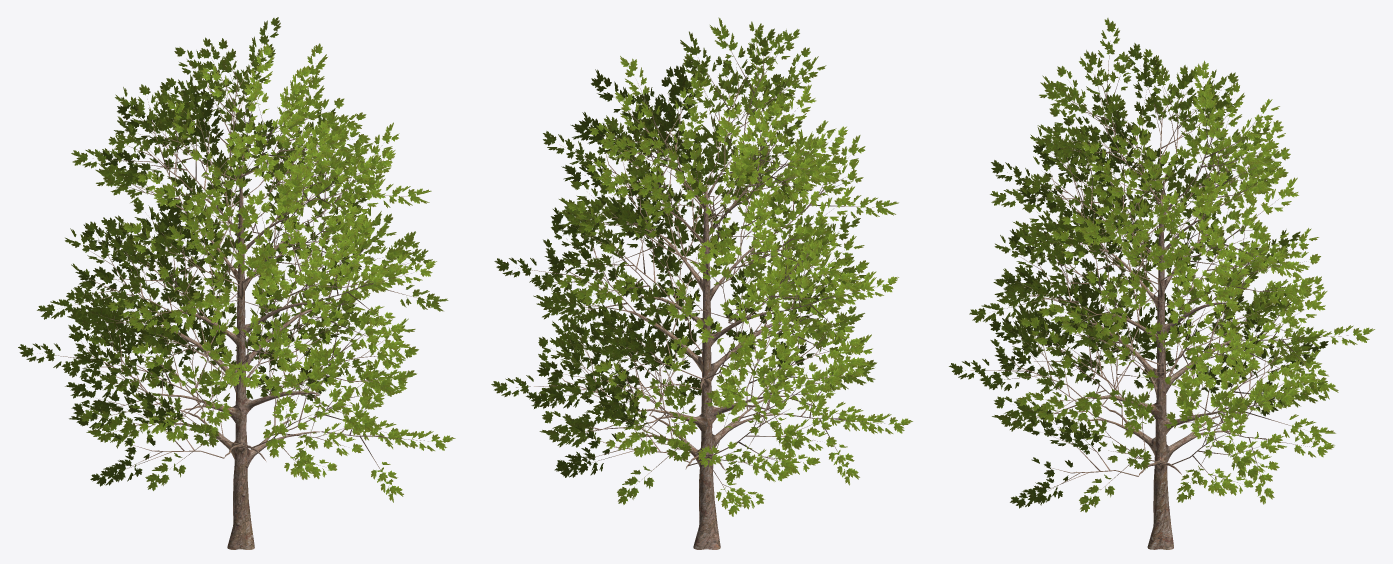
File: maple.fbx
The picture shows the model from 3 angles, left to right: view 1: azimuth 30°, elevation 25°; view 2: azimuth 150°, elevation 25°; view 3: azimuth 270°, elevation 25°; orthographic projection. The views are drawn at different scales.
Visible parts, largest first — view 1: leaf maple_1, bark02_0; view 2: leaf maple_1, bark02_0; view 3: leaf maple_1, bark02_0.
Part boxes in pixels (x1,y1,x2,y2): leaf maple_1: (18,17,455,502); bark02_0: (42,43,428,549); leaf maple_1: (491,17,912,516); bark02_0: (516,39,888,549); leaf maple_1: (949,18,1374,512); bark02_0: (971,41,1348,549).
Size of the model in its own units: 703 by 913 by 715.
Materials: 2 (2 with a texture image).
